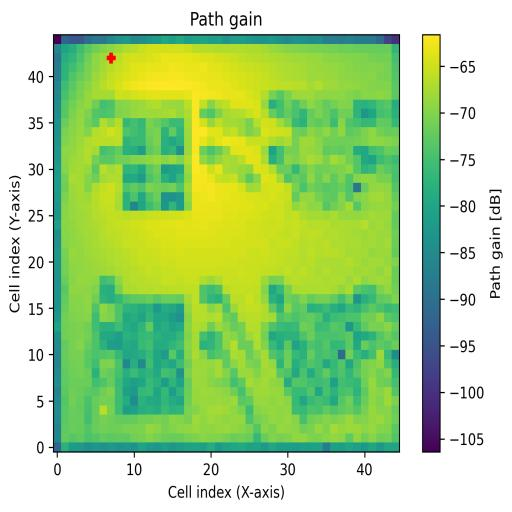Concrete: (286, 92, 370, 210)
Glass: (122, 99, 191, 211)
Metal: (283, 294, 368, 416)
Wood: (100, 293, 184, 414)
